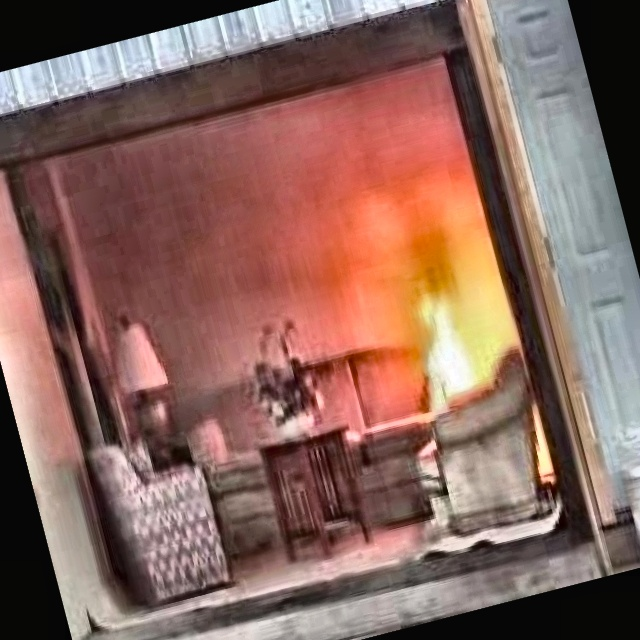fire: (381, 241, 502, 404)
